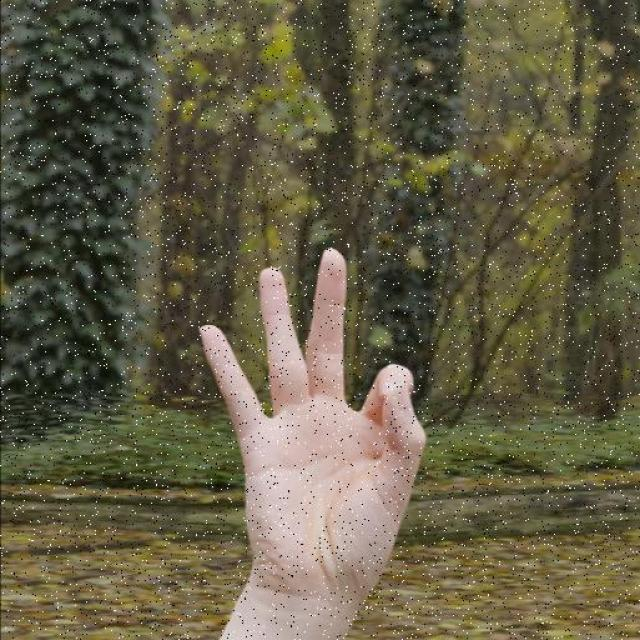F: (194, 246, 427, 610)
